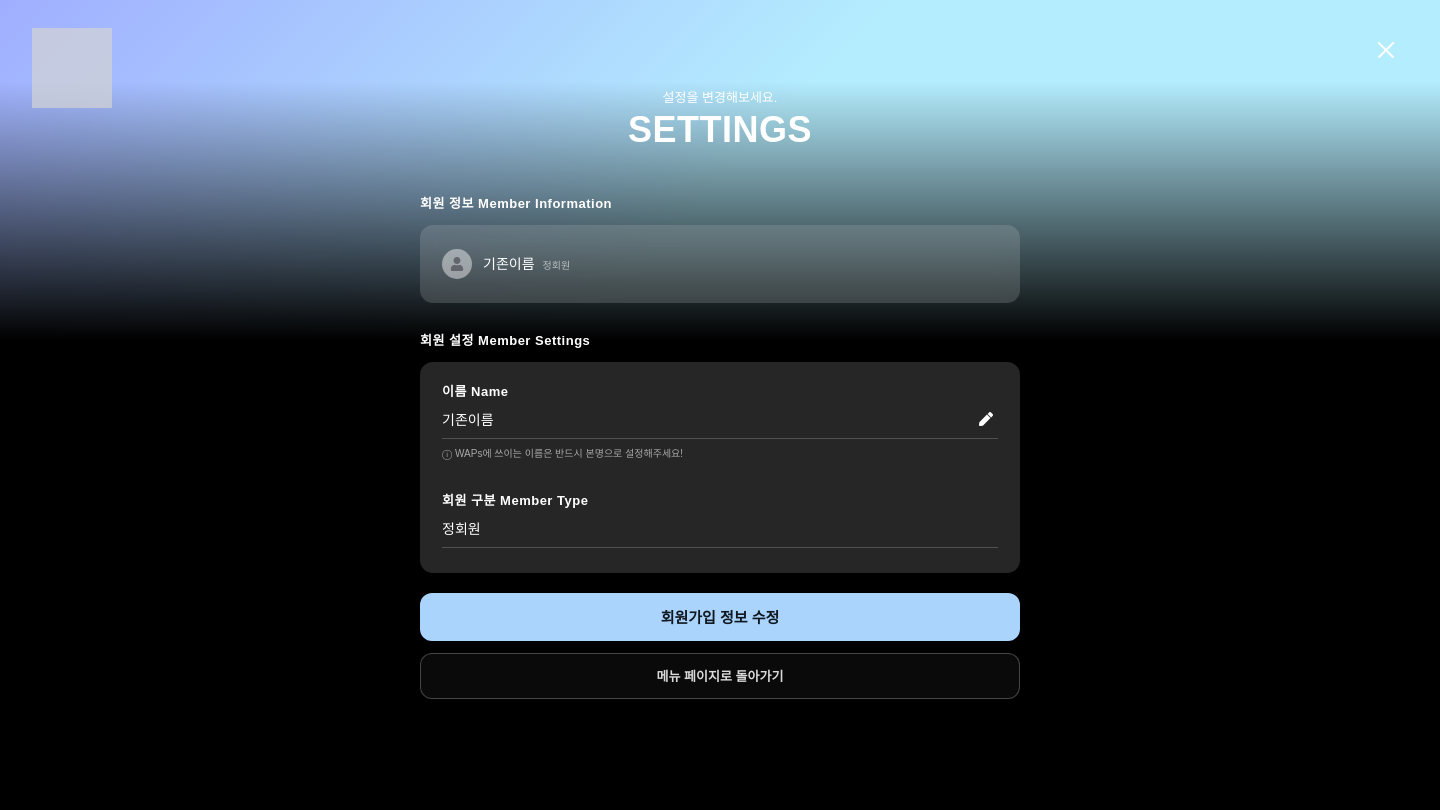
it: name saving blocks duplicate submissions and updates the login display name
Click the button named "이름 변경" at (986, 419), box [973,407,998,432]
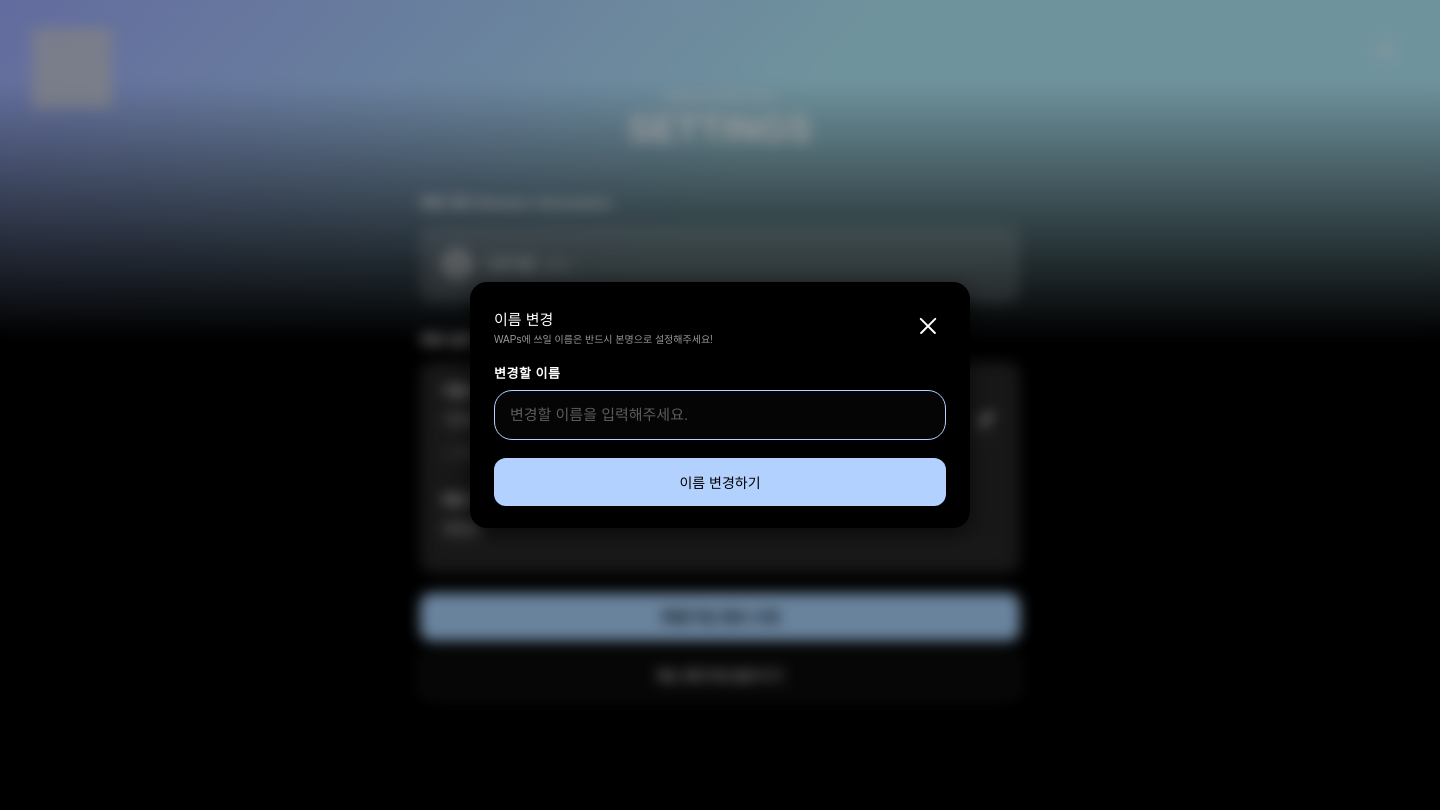
Type "새이름" into the field labelled "변경할 이름" at (720, 415), box [494,390,946,440]
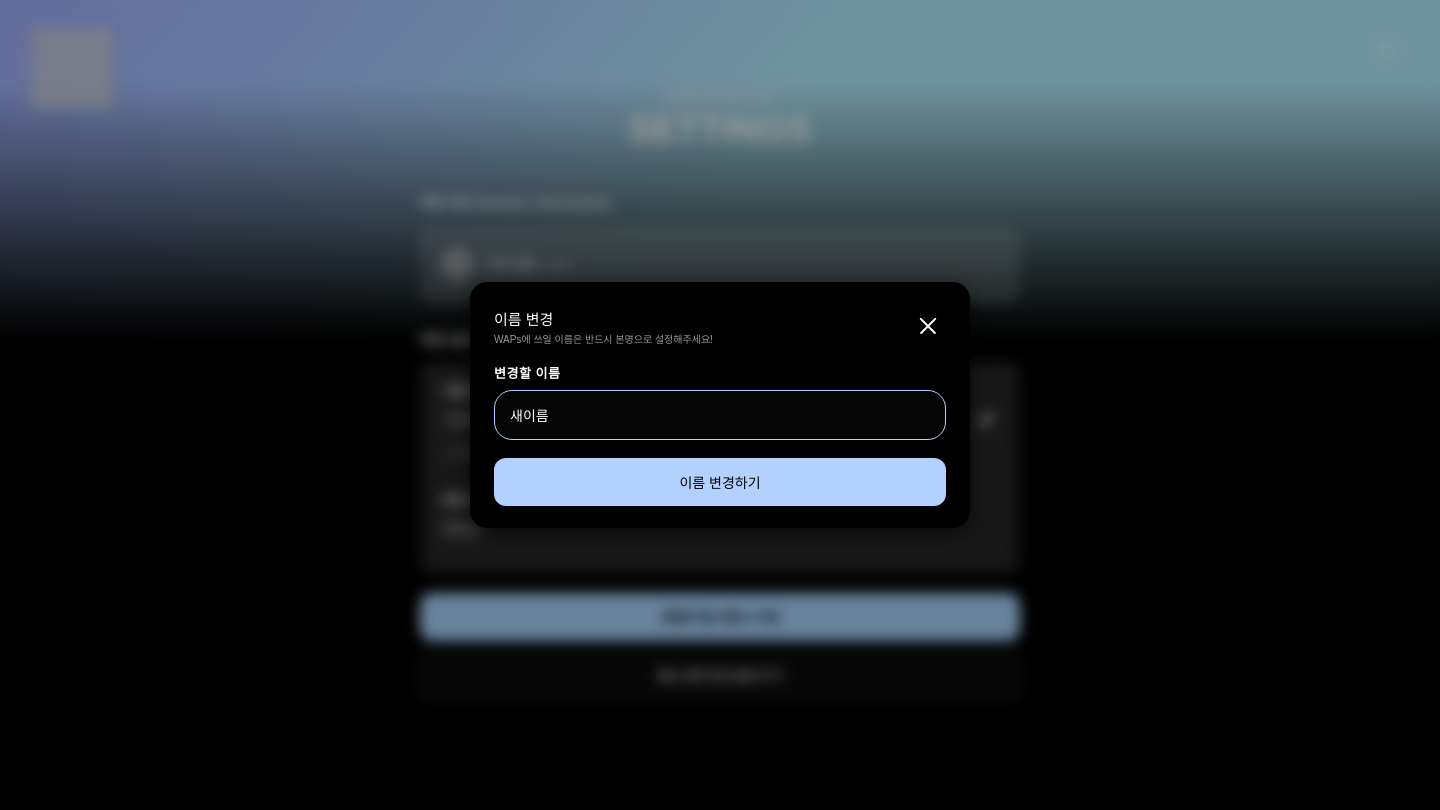
Click the button "이름 변경하기" at (720, 482), box [494,458,946,506]
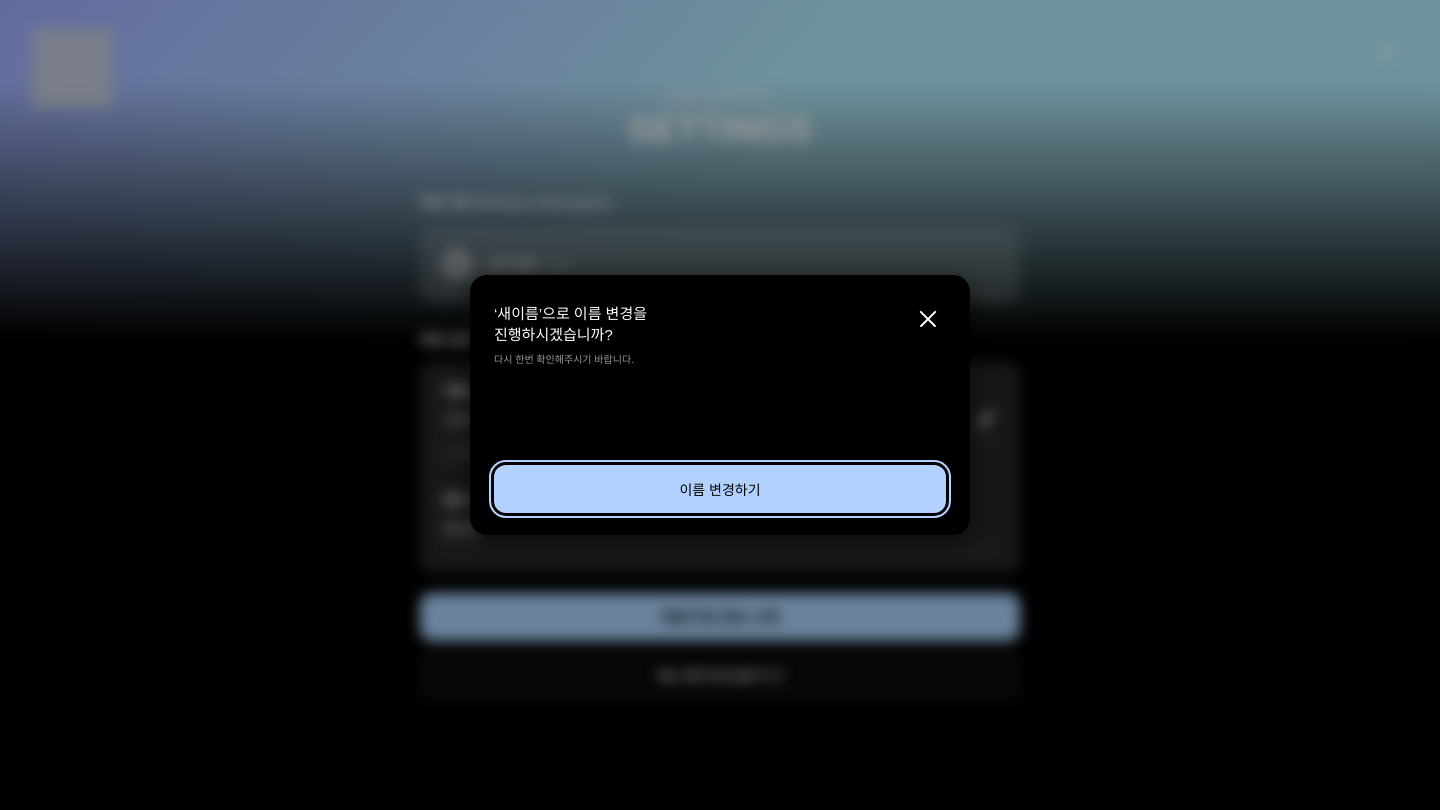
Click the button "이름 변경하기" at (720, 489), box [494,465,946,513]
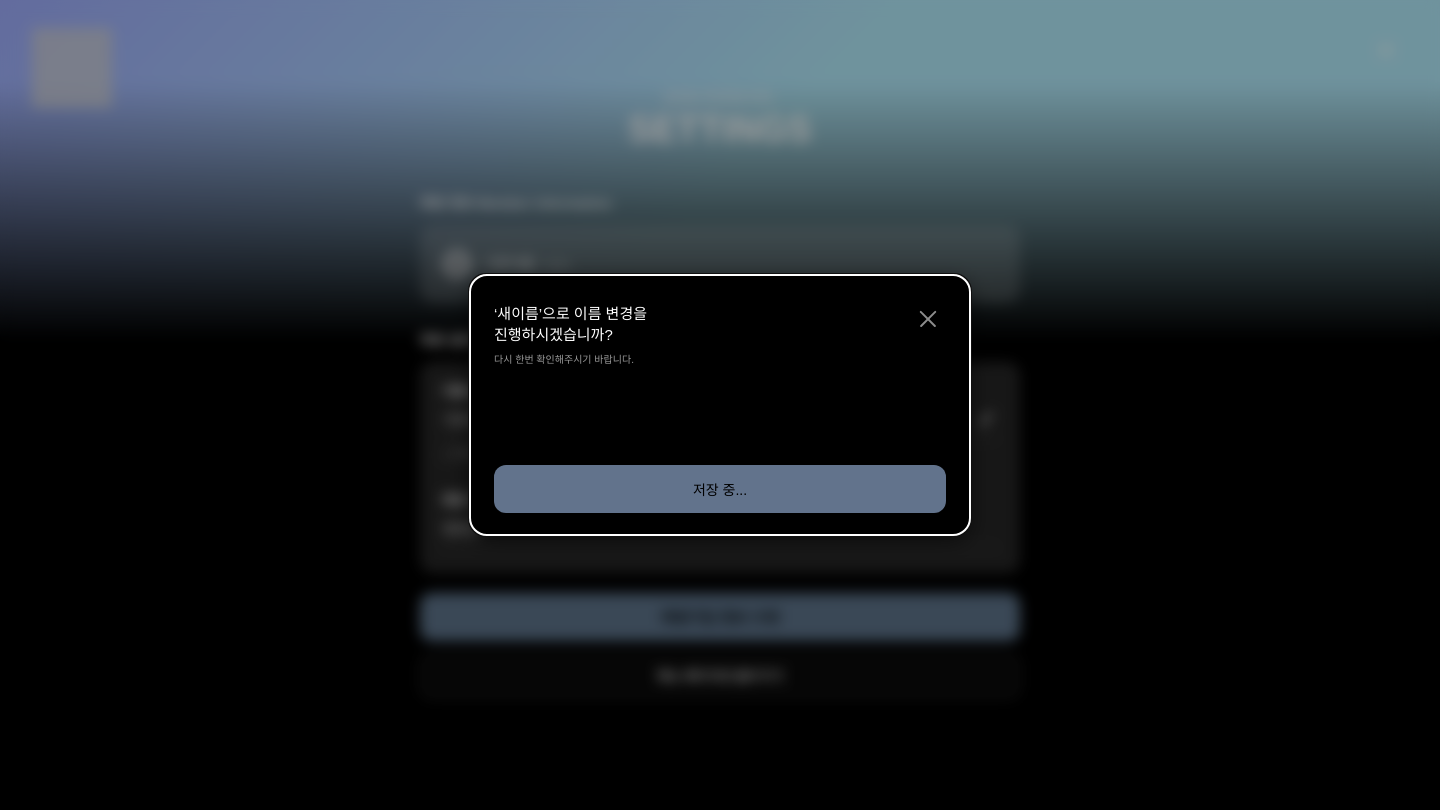
Expected: the button "저장 중..." is disabled
Click the button "저장 중..." at (720, 489), box [494,465,946,513]
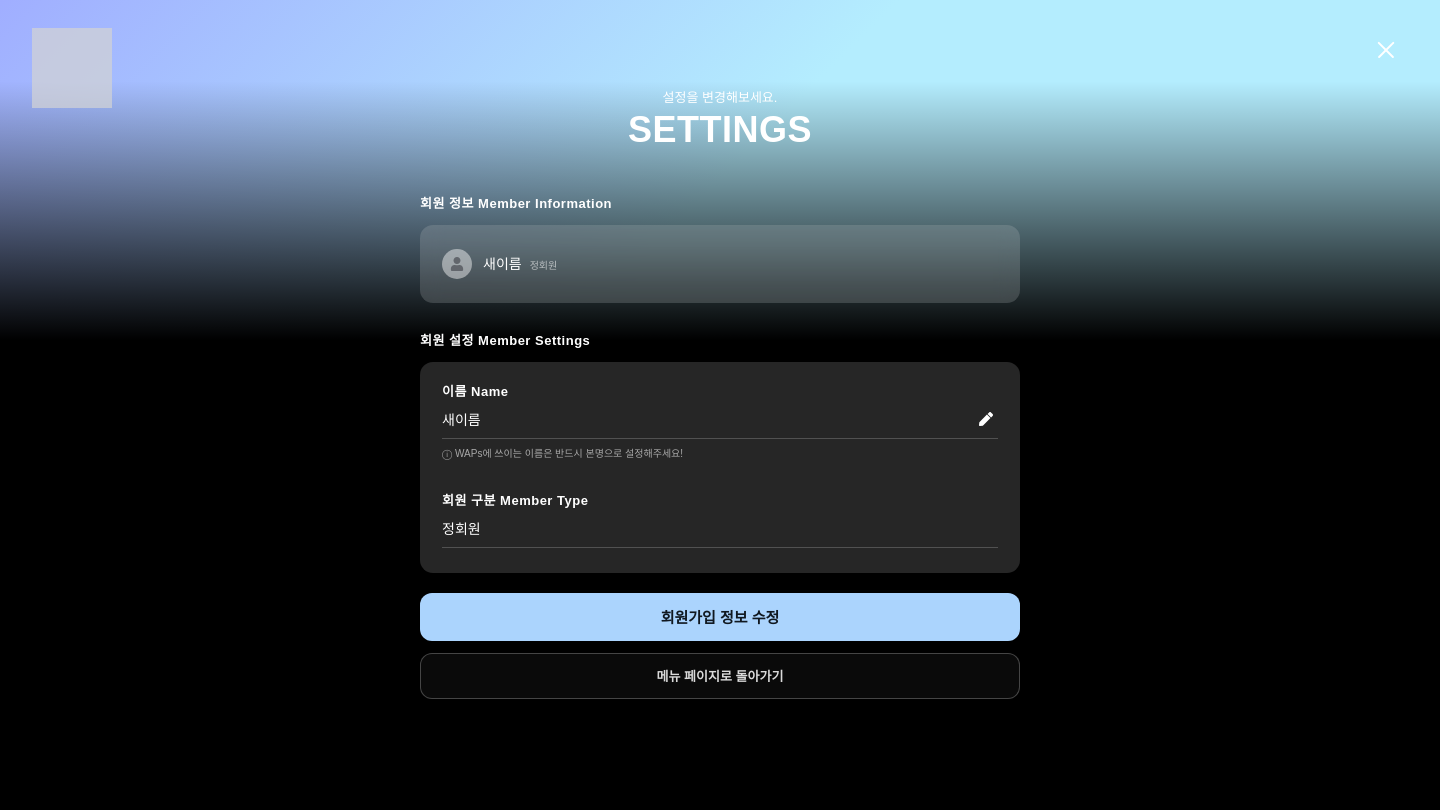
Expected: the text "새이름" is shown 2 times, [483,255,522,273]; [442,411,481,429]
Expected: the dialog is gone
